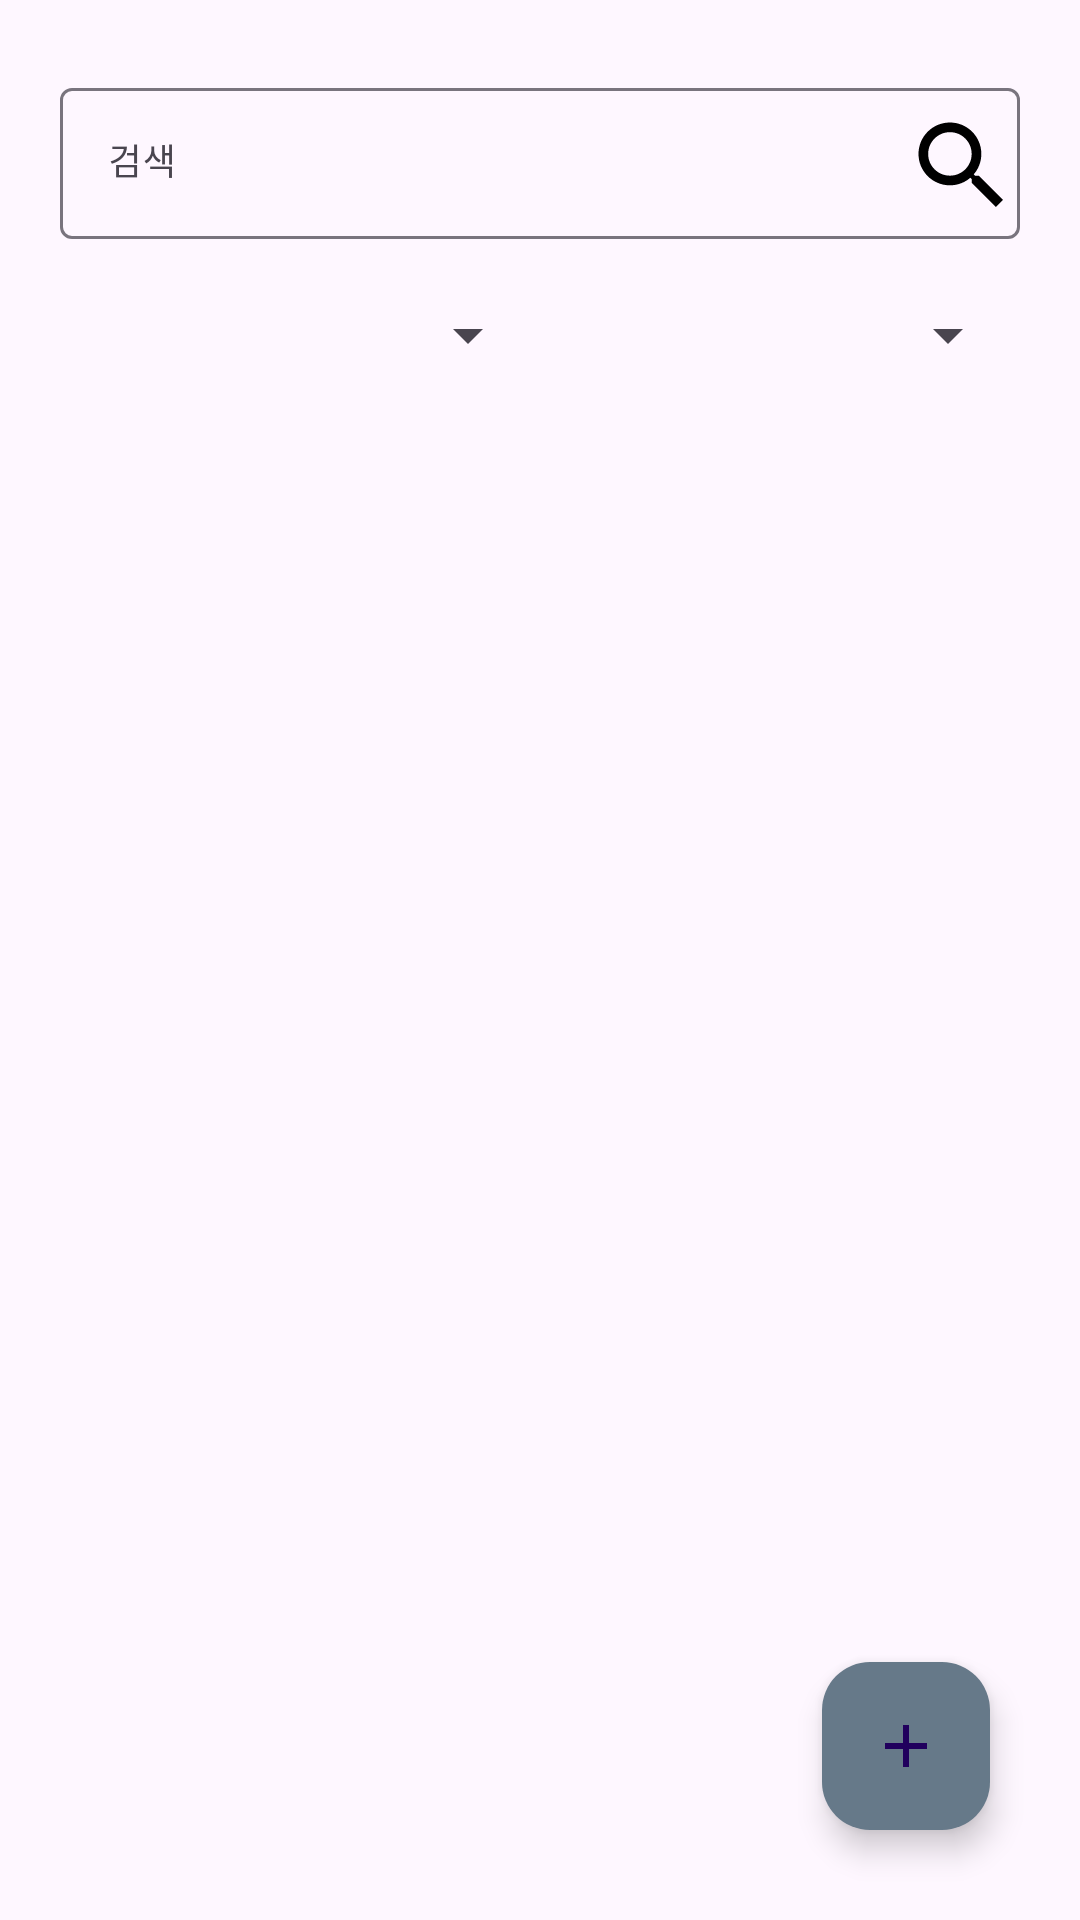

Named icons in this screenshot (1080 × 1920) and their bounding boxes, (x1, y1, x2, y2):
add: (822, 1662, 990, 1830)
search: (918, 122, 1003, 207)
